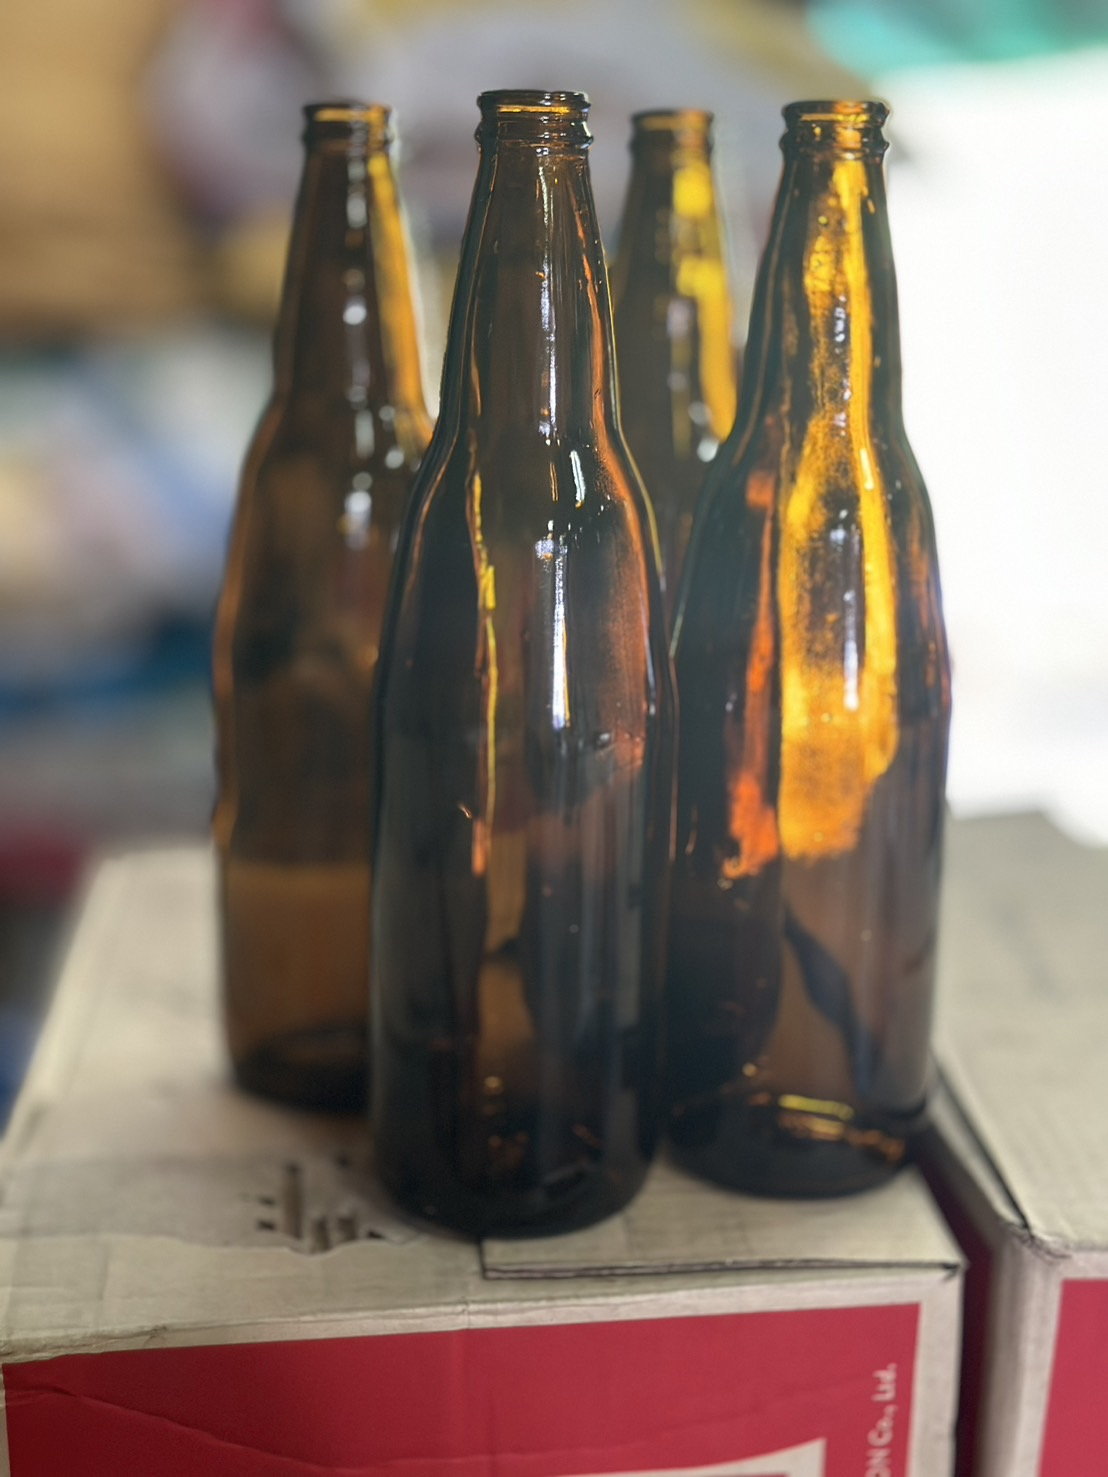glass_bottle: (203, 49, 974, 1249)
